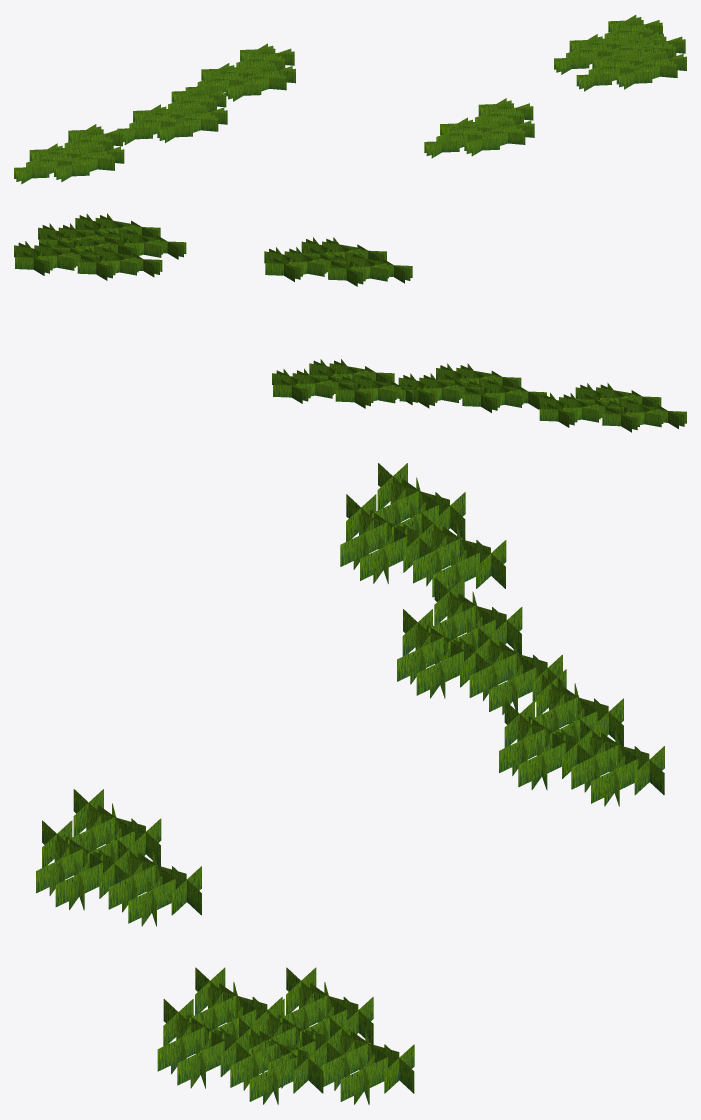
File: Cesped.obj
3 renders of one model, top to bottom at view 1: azimuth 30°, elevation 25°; view 2: azimuth 150°, elevation 25°; view 3: azimuth 270°, elevation 25°, orthographic. The views are drawn at different scales.
Visible parts, largest first — view 1: Cesped Cesped188, Cesped Cesped128, Cesped Cesped488, Cesped Cesped368, Cesped Cesped278; view 2: no part large enough to name; view 3: no part large enough to name.
Boxes of the visible parts, box(x1,y1,x2,y2) form: Cesped Cesped188: box(616, 72, 652, 84); Cesped Cesped128: box(554, 57, 589, 69); Cesped Cesped488: box(14, 166, 49, 178); Cesped Cesped368: box(226, 84, 261, 96); Cesped Cesped278: box(157, 125, 192, 137).
Bounding box in the file's own units: 12.31 × 0.2057 × 5.26.
Materials: 1 (1 with a texture image).
